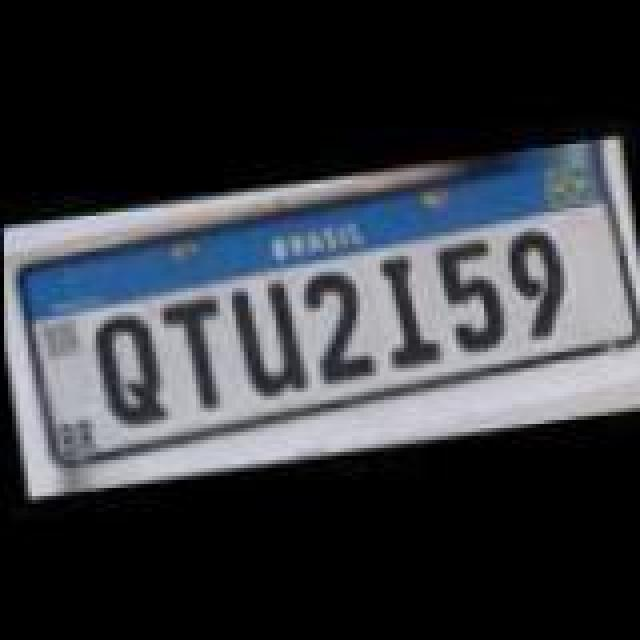2: (300, 264, 380, 388)
5: (434, 232, 510, 352)
9: (496, 224, 576, 352)
I: (376, 248, 440, 368)
Q: (90, 310, 174, 434)
T: (160, 290, 232, 406)
U: (226, 276, 310, 400)
